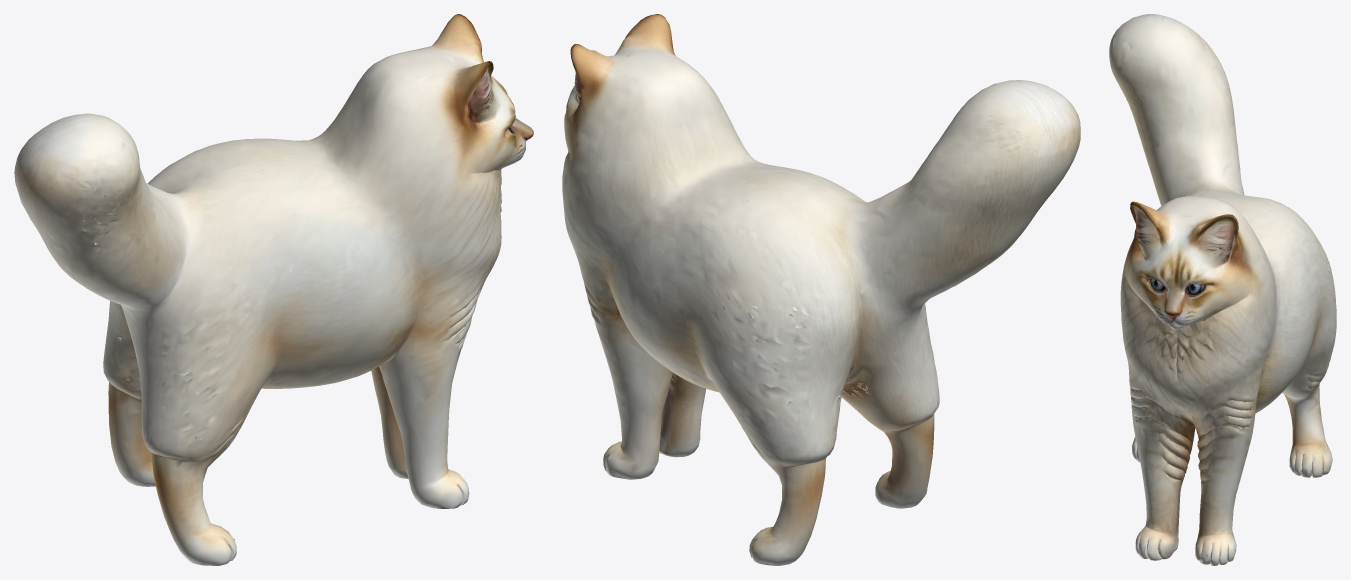
The model's file is CHOUPETCAT.glb.
3 renders of one model, left to right at view 1: azimuth 30°, elevation 25°; view 2: azimuth 150°, elevation 25°; view 3: azimuth 270°, elevation 25°, orthographic. The views are drawn at different scales.
Visible parts, largest first — view 1: fit; view 2: fit; view 3: fit.
Boxes of the visible parts, left/top/right/bottom form: fit: left=14, top=14, right=533, bottom=565; fit: left=562, top=14, right=1080, bottom=565; fit: left=1109, top=14, right=1336, bottom=565.
Size of the model in its own units: 1.16 by 0.9997 by 0.5326.
Materials: 1 (1 with a texture image).
